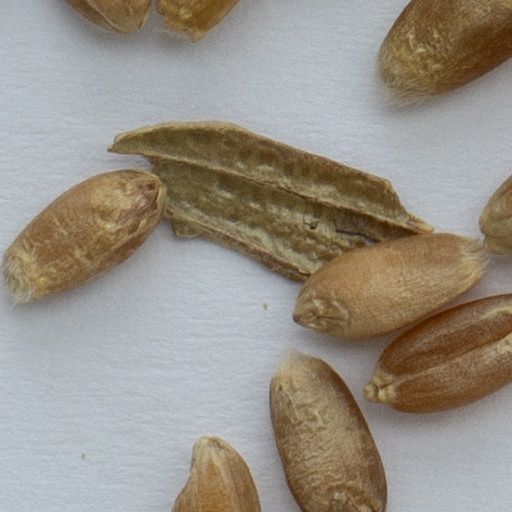Peel-poly: (102, 119, 429, 289)
Wheat-grain-poly: (1, 172, 163, 308), (290, 235, 493, 338), (264, 347, 386, 511), (362, 291, 511, 416)
